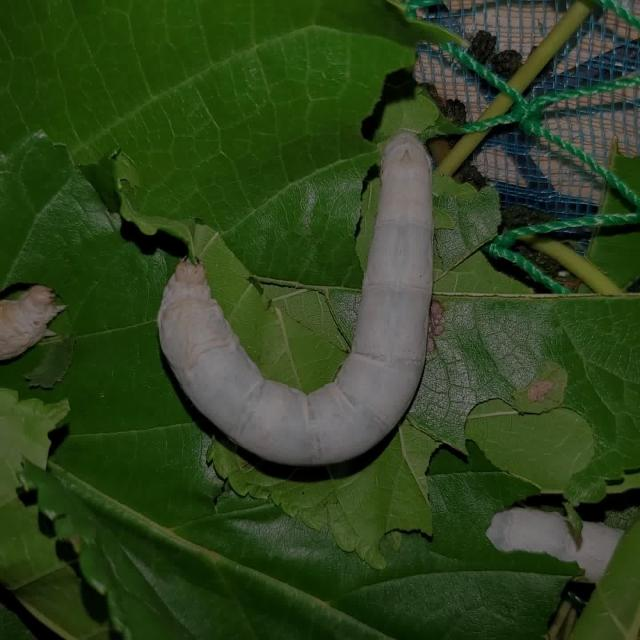Healthy: (151, 121, 445, 473)
